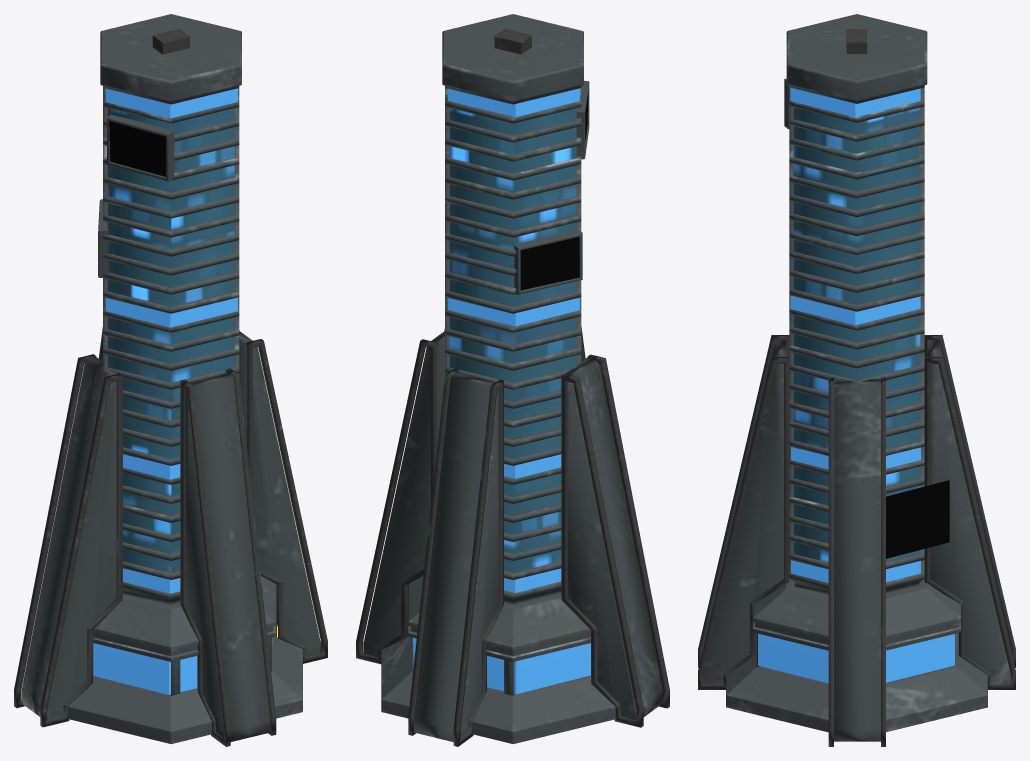
Rendered from BLD1310006.fbx.
3 renders of one model, left to right at view 1: azimuth 30°, elevation 25°; view 2: azimuth 150°, elevation 25°; view 3: azimuth 270°, elevation 25°, orthographic.
Parts seen in each view (by area): view 1: smBLD1310006; view 2: smBLD1310006; view 3: smBLD1310006.
Part boxes in pixels (x1,y1,x2,y2): smBLD1310006: (14, 14, 327, 746); smBLD1310006: (356, 14, 669, 746); smBLD1310006: (698, 14, 1015, 746).
Size of the model in its own units: 1466 by 3177 by 1425.
4 materials, 1 textured.
